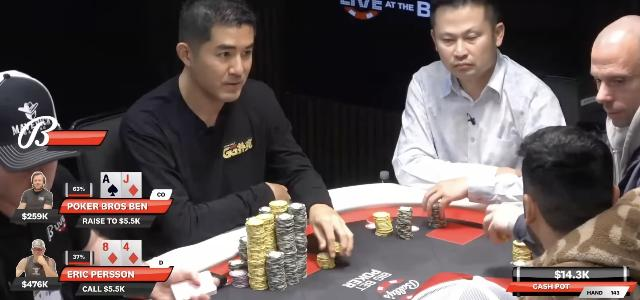4D: (123, 240, 141, 266)
8D: (101, 240, 121, 266)
AS: (101, 172, 121, 198)
JD: (121, 173, 141, 198)
